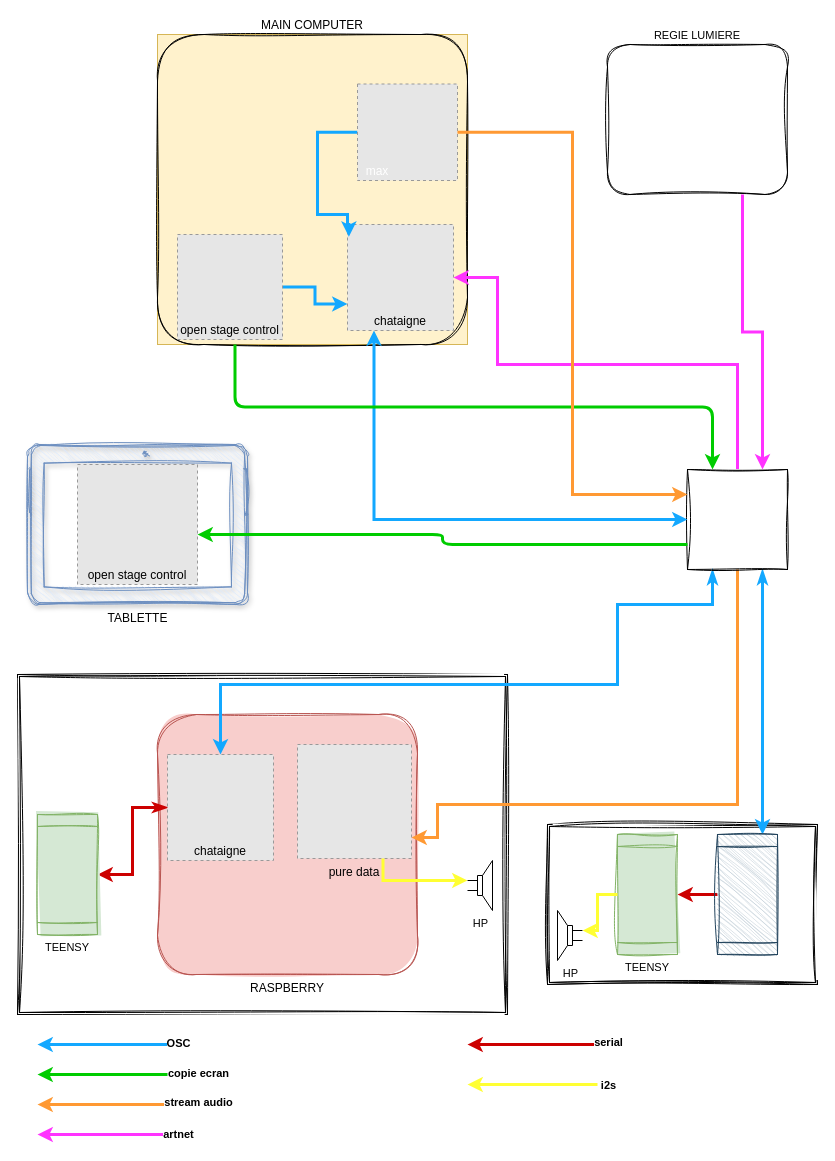
Image size: 835x1161. Some labels were removed from this diagram. Grey dashed boxes stand in for pictures. The shapes that lost their labels are listed below. From the top down, each one's centre as x and y in pixels, then its label:
pixel 737 519: ROUTEUR
pixel 747 894: ESP 01S
